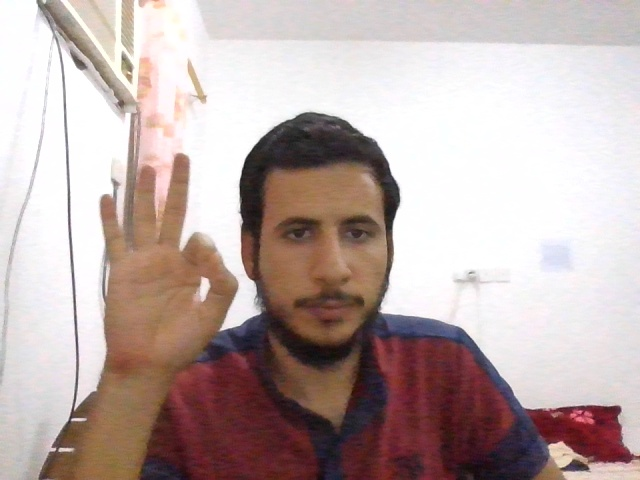Three: (100, 153, 237, 370)
